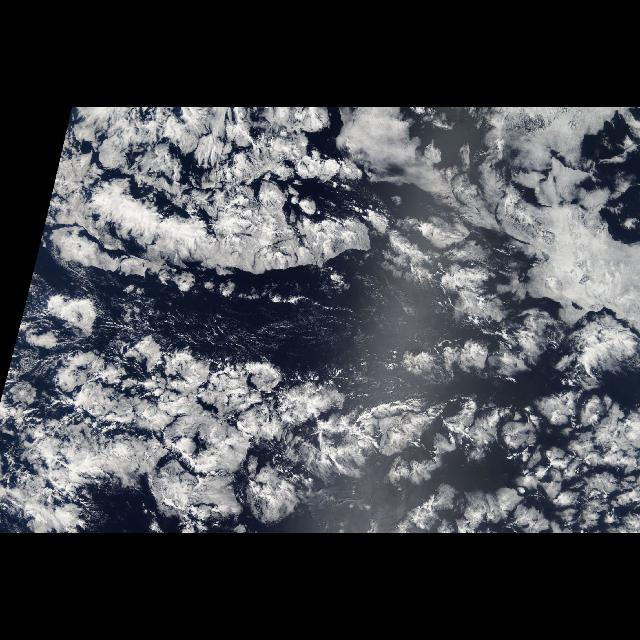Flower: (1, 174, 640, 534), (34, 107, 386, 285)
